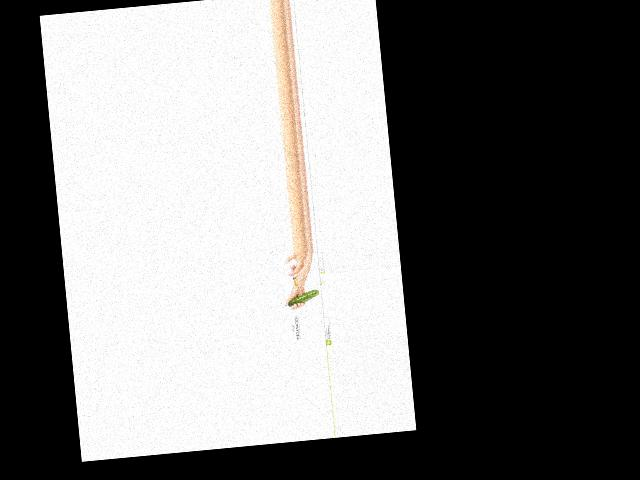cucumber: (287, 288, 320, 306)
